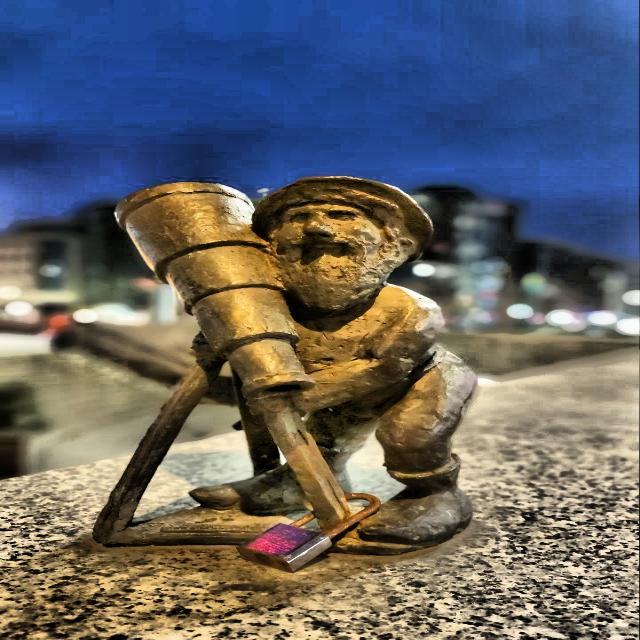Lunetyk: (93, 178, 479, 552)
